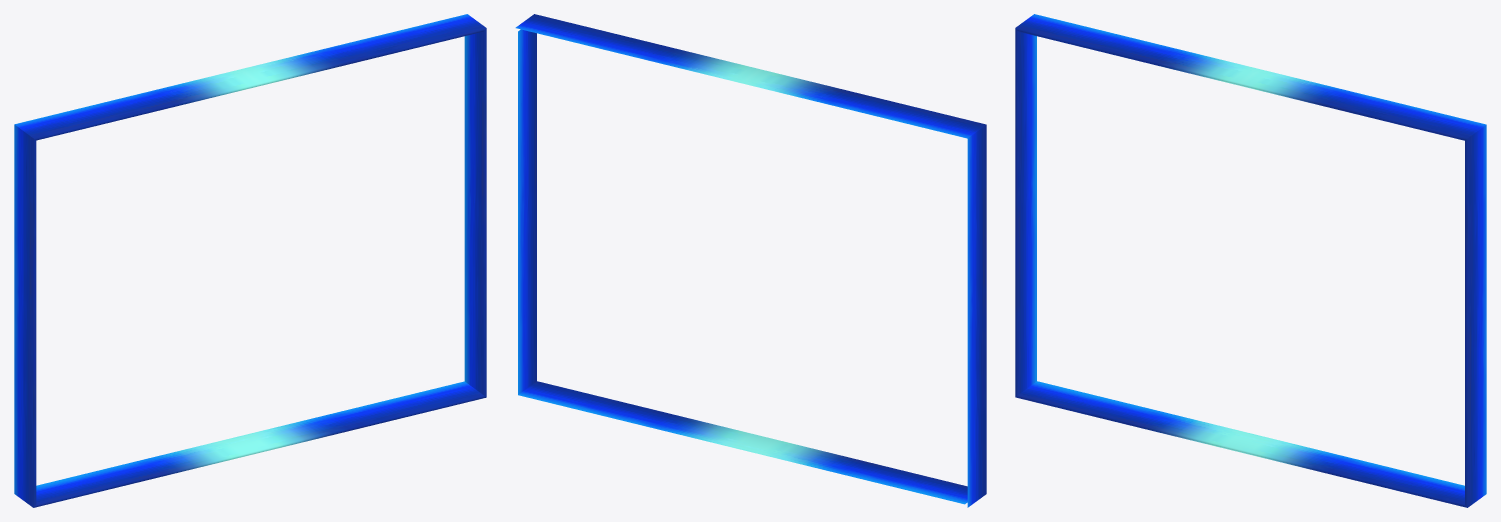
Rendered from screen_center.glb.
3 renders of one model, left to right at view 1: azimuth 30°, elevation 25°; view 2: azimuth 150°, elevation 25°; view 3: azimuth 330°, elevation 25°, orthographic.
Parts seen in each view (by area): view 1: screen_centerShape:1, screen_centerShape:0; view 2: screen_centerShape:1, screen_centerShape:0; view 3: screen_centerShape:0, screen_centerShape:1.
Part boxes in pixels (bbox=[...]): screen_centerShape:1: bbox=[14, 69, 259, 507]; screen_centerShape:0: bbox=[241, 14, 486, 452]; screen_centerShape:1: bbox=[741, 69, 986, 507]; screen_centerShape:0: bbox=[515, 14, 760, 449]; screen_centerShape:0: bbox=[1241, 69, 1486, 507]; screen_centerShape:1: bbox=[1015, 14, 1260, 452].
Bounding box in the file's own units: 400 × 312 × 29.66.
1 material, 1 textured.
